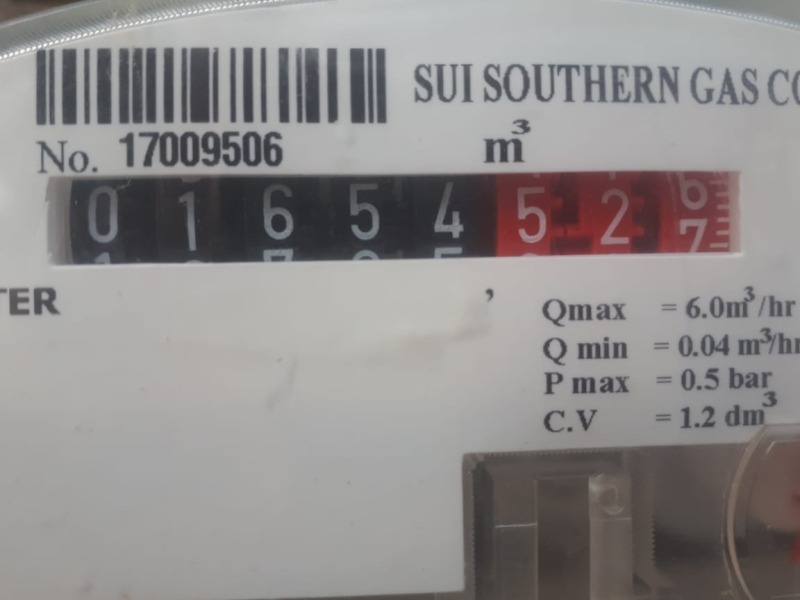ssgc: (41, 173, 754, 263)
